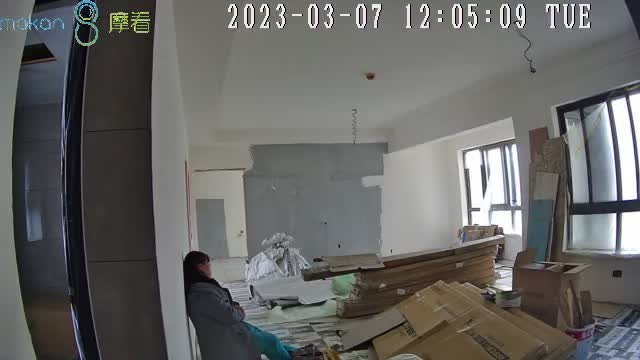people: (185, 249, 328, 360)
window: (556, 84, 640, 257), (463, 138, 523, 233)
